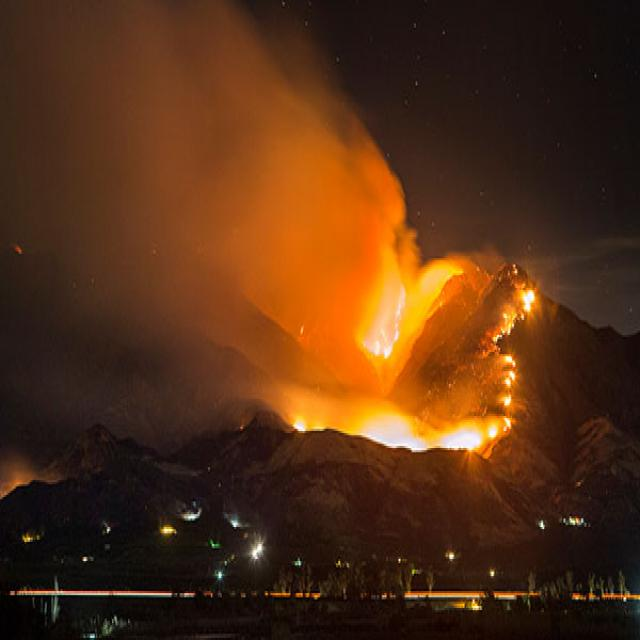Fire: (356, 271, 439, 361), (355, 416, 509, 454)
